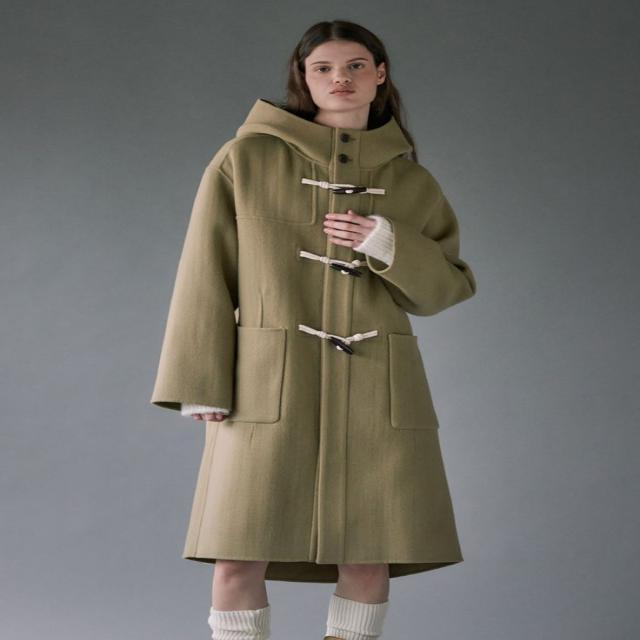coat: (148, 98, 480, 587)
